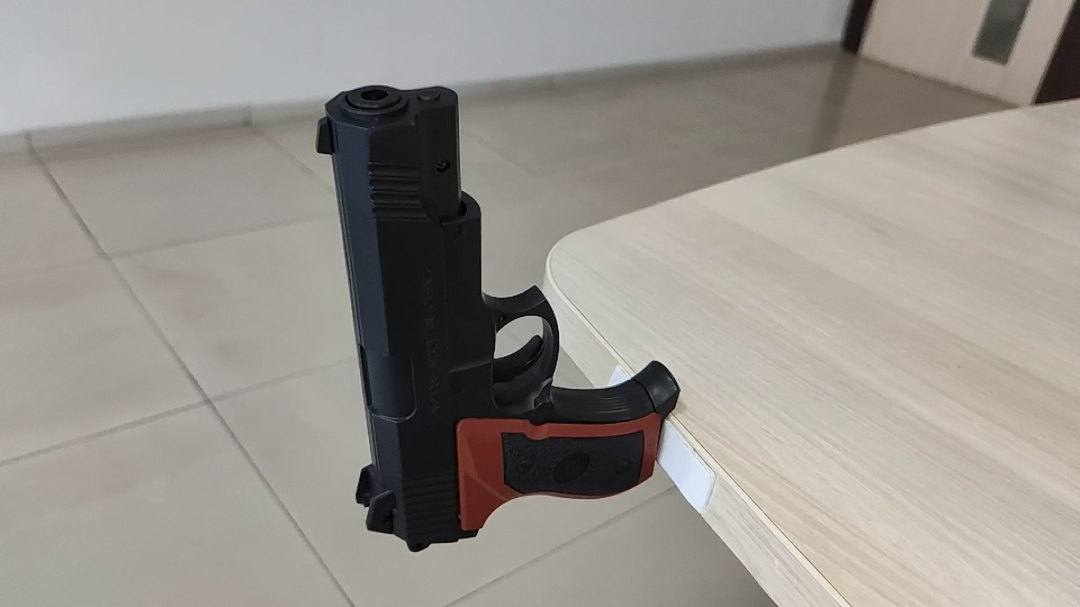gun: (314, 82, 682, 553)
